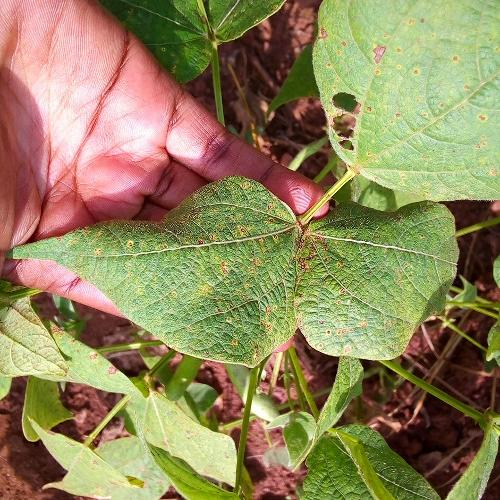mozaik: (314, 72, 399, 166)
